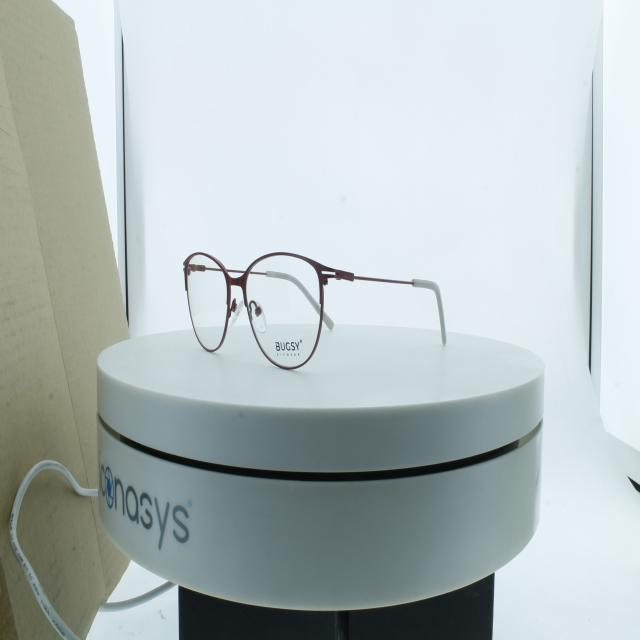Specs: (174, 213, 484, 384)
